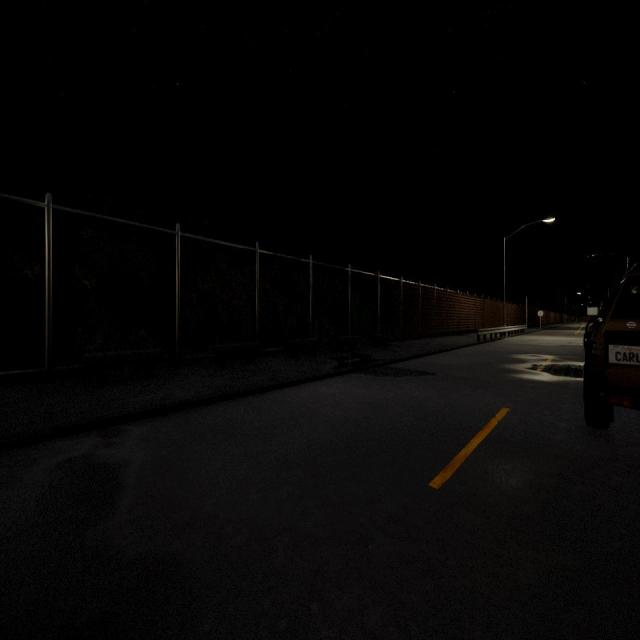Traffic_Signs: (538, 310, 544, 317)
Vehicle: (583, 263, 639, 429)
